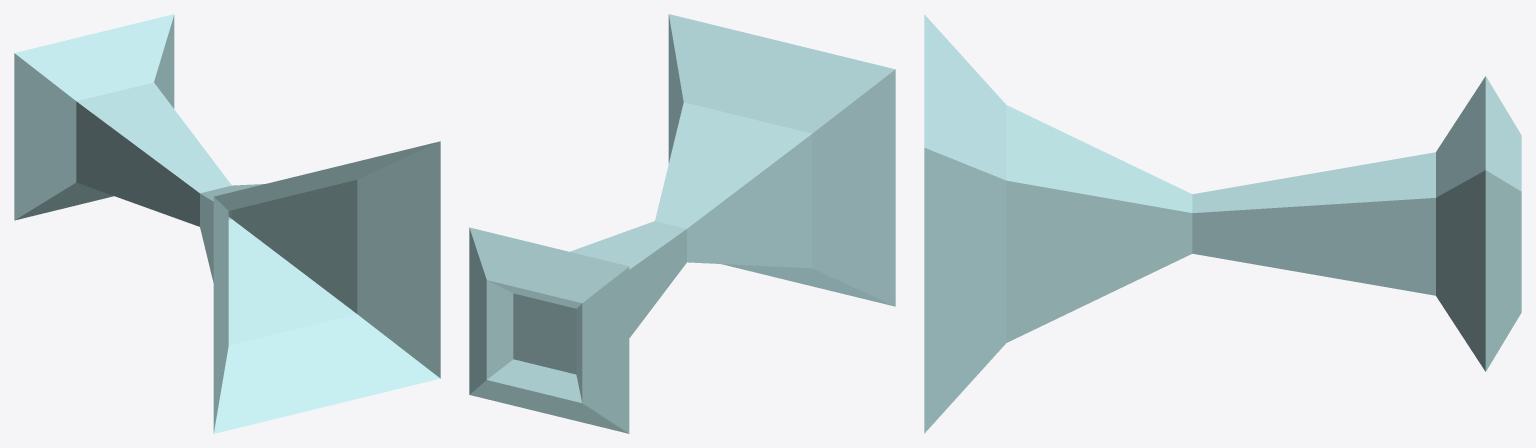
3 views of the same model, side by side, from view 1: azimuth 30°, elevation 25°; view 2: azimuth 150°, elevation 25°; view 3: azimuth 270°, elevation 25° (orthographic). The views are drawn at different scales.
Visible parts, largest first — view 1: Object67; view 2: Object67; view 3: Object67.
Part boxes in pixels (box(x1,y1,x2,y2)): Object67: box(14, 14, 440, 433); Object67: box(469, 14, 895, 433); Object67: box(924, 14, 1521, 433).
Size of the model in its own units: 5879 by 5879 by 11116.
